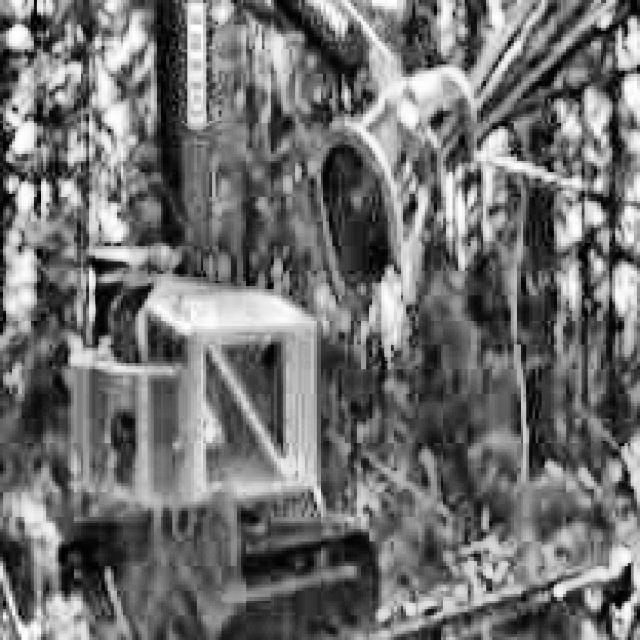excavator: (34, 0, 480, 640)
